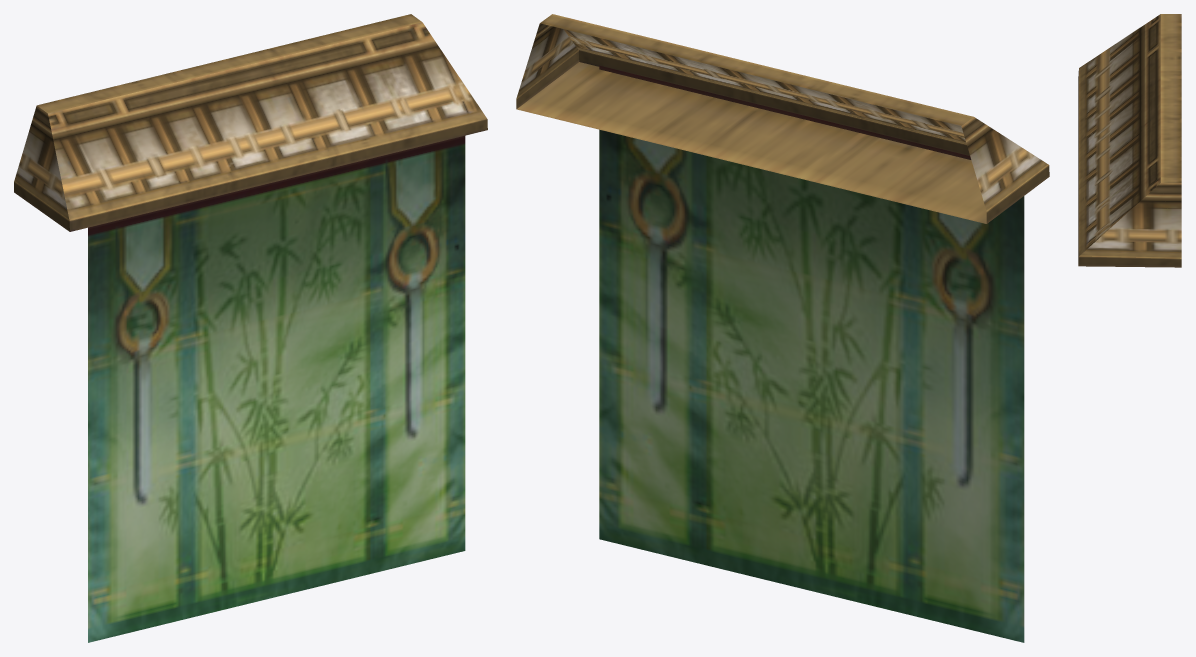
The model's file is YZC_MJ_AZ_05.FBX.
3 views of the same model, side by side, from view 1: azimuth 30°, elevation 25°; view 2: azimuth 150°, elevation 25°; view 3: azimuth 270°, elevation 25° (orthographic). The views are drawn at different scales.
Parts seen in each view (by area): view 1: YZC_MJ_AZ_05; view 2: YZC_MJ_AZ_05; view 3: YZC_MJ_AZ_05.
Boxes of the visible parts, left/top/right/bottom form: YZC_MJ_AZ_05: left=14, top=14, right=487, bottom=642; YZC_MJ_AZ_05: left=516, top=14, right=1049, bottom=642; YZC_MJ_AZ_05: left=1078, top=14, right=1181, bottom=267.
Size of the model in its own units: 107 by 122 by 24.86.
